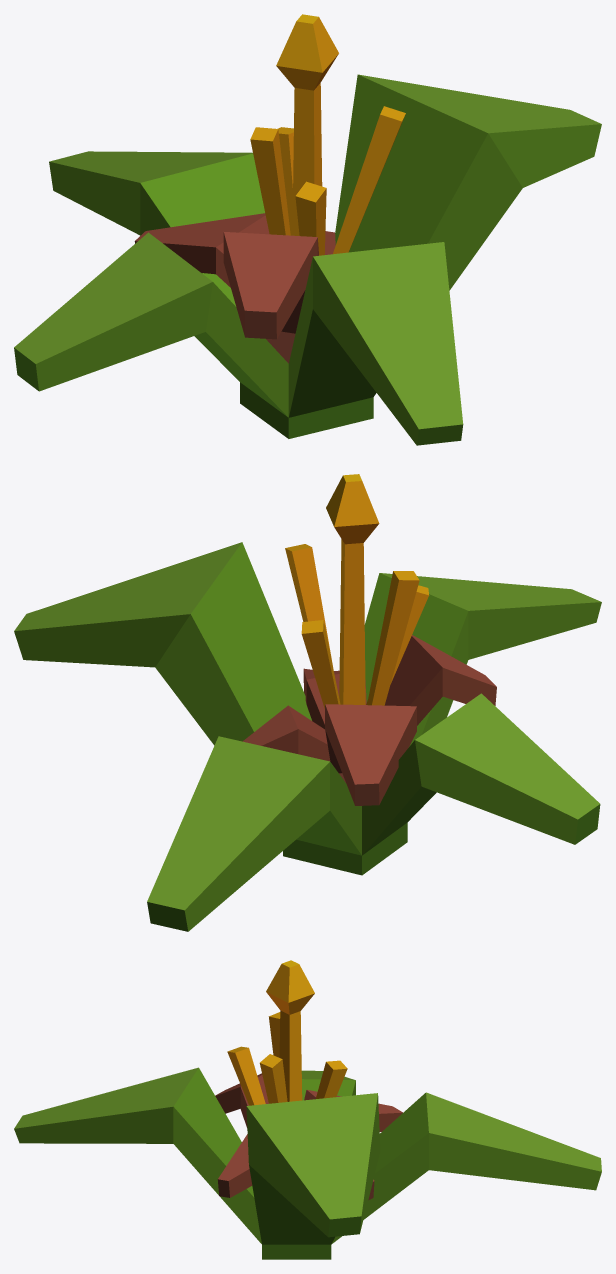
File: ST_Prop_Plant_01.fbx
3 views of the same model, one above another, from view 1: azimuth 30°, elevation 25°; view 2: azimuth 150°, elevation 25°; view 3: azimuth 270°, elevation 25° (orthographic). The views are drawn at different scales.
Parts seen in each view (by area): view 1: ST_Prop_Plant_01; view 2: ST_Prop_Plant_01; view 3: ST_Prop_Plant_01.
Part boxes in pixels (bbox=[...]): ST_Prop_Plant_01: bbox=[14, 14, 601, 445]; ST_Prop_Plant_01: bbox=[14, 474, 601, 931]; ST_Prop_Plant_01: bbox=[14, 960, 601, 1259].
Bounding box in the file's own units: 1.05 × 0.6702 × 1.28.
